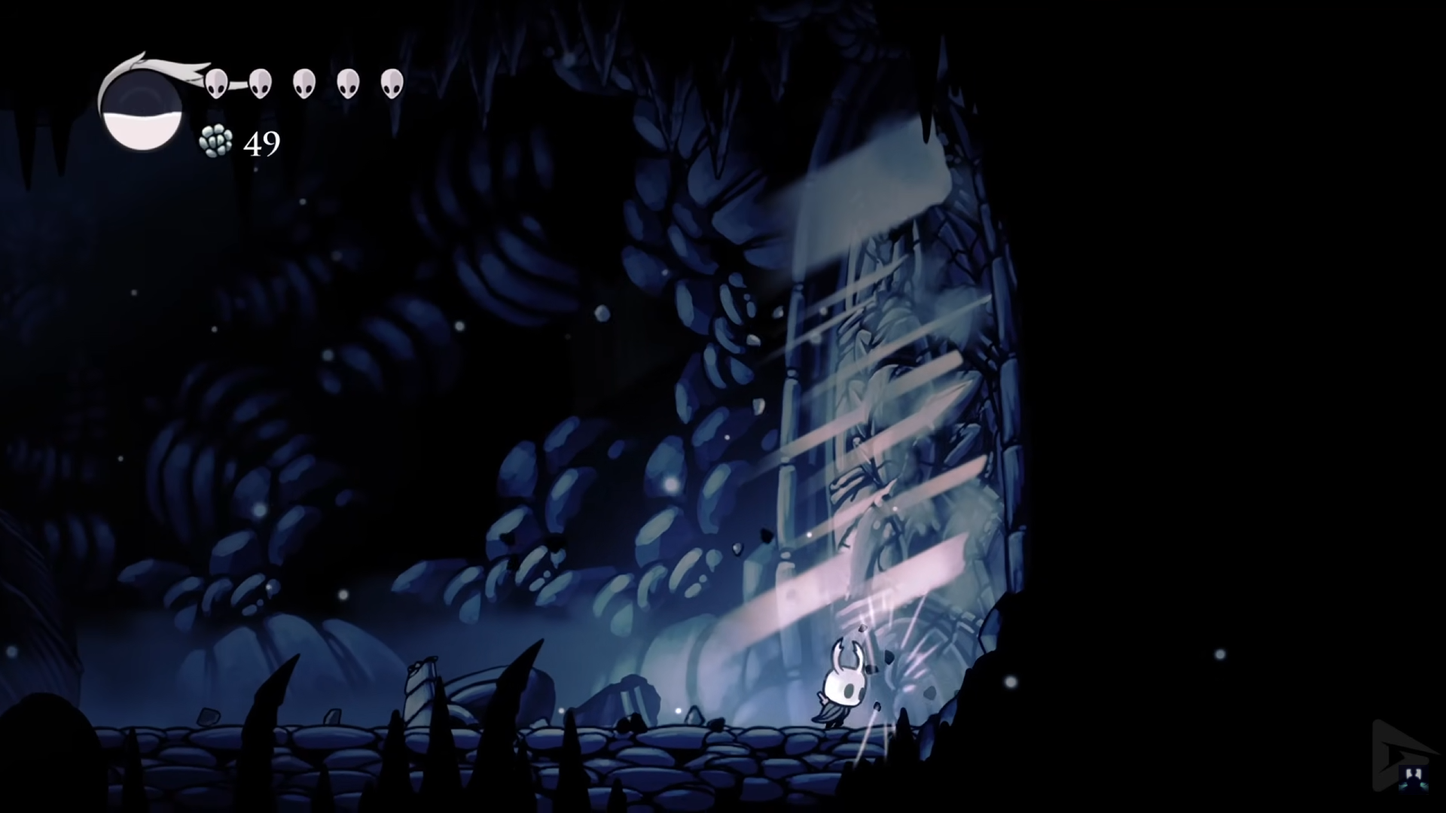HK: (810, 635, 874, 734)
